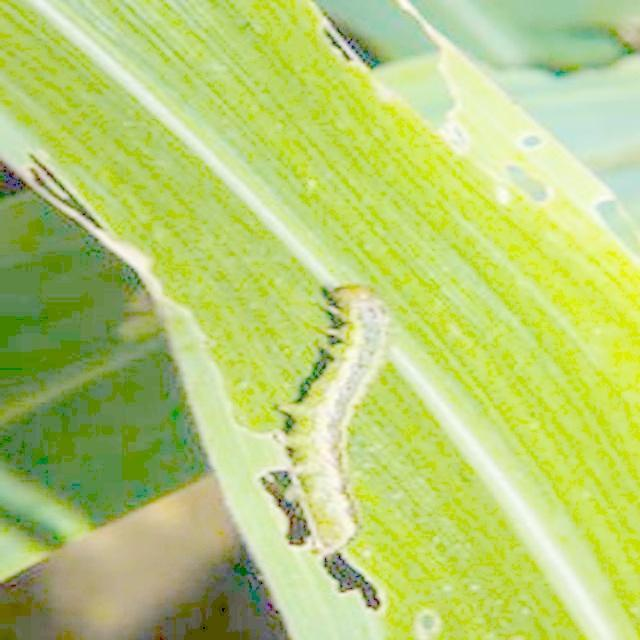gusano_cogollero: (278, 279, 396, 568)
